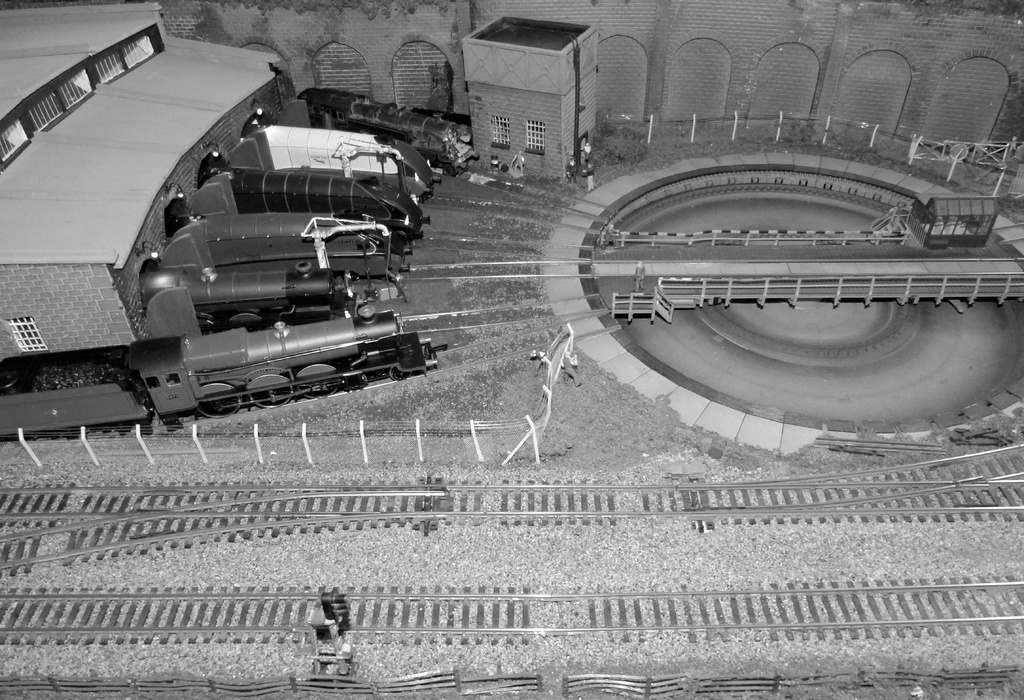train: (123, 283, 453, 419)
